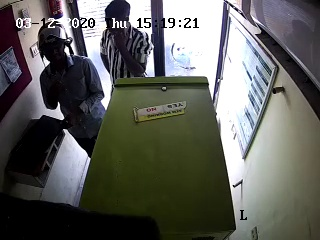helmet: (34, 21, 82, 64)
